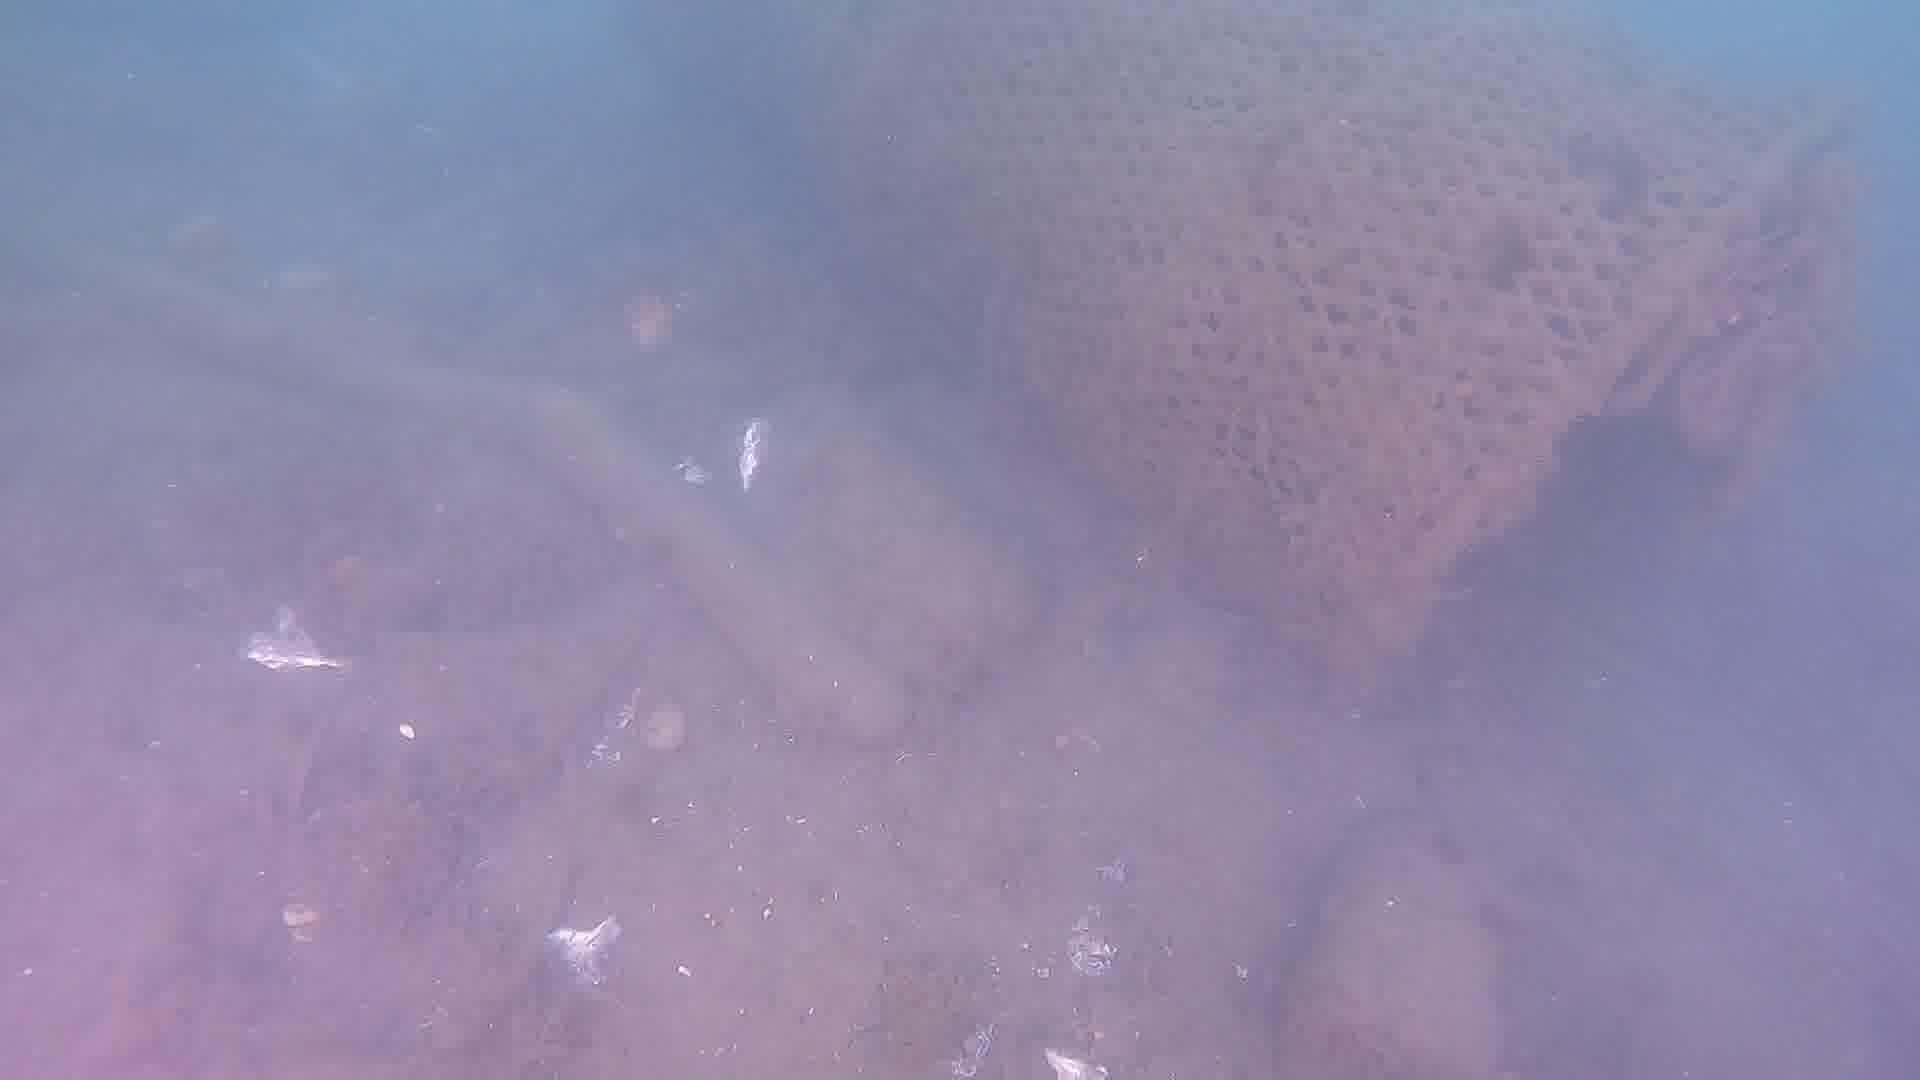spring fish trap: (603, 0, 1861, 731)
